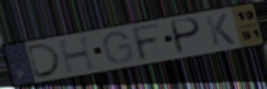D: (25, 41, 64, 80)
F: (130, 21, 164, 63)
G: (101, 30, 136, 65)
H: (56, 33, 99, 75)
K: (203, 12, 237, 48)
P: (170, 17, 204, 56)
